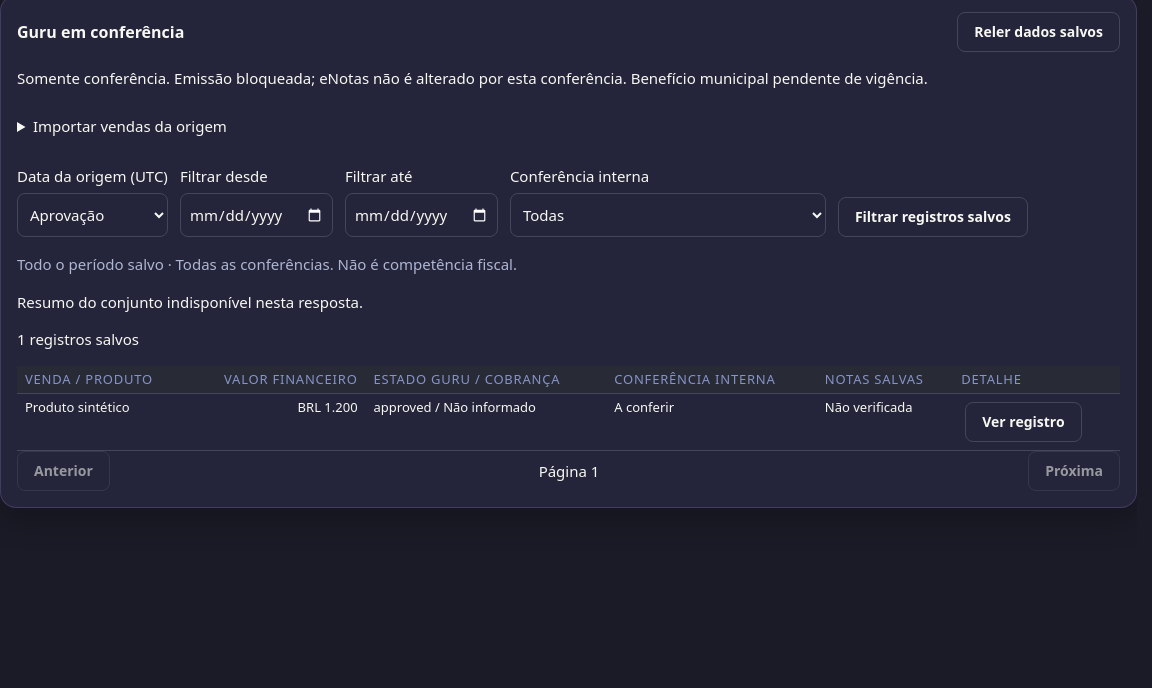
abrir somente lê; conferência explícita usa versão/hash e mantém bloqueios
Click the button with aria-label "Conferir transação venda-sintetica" at (1024,422), box x1=965 y1=402 x2=1082 y2=442
(page scrolled)
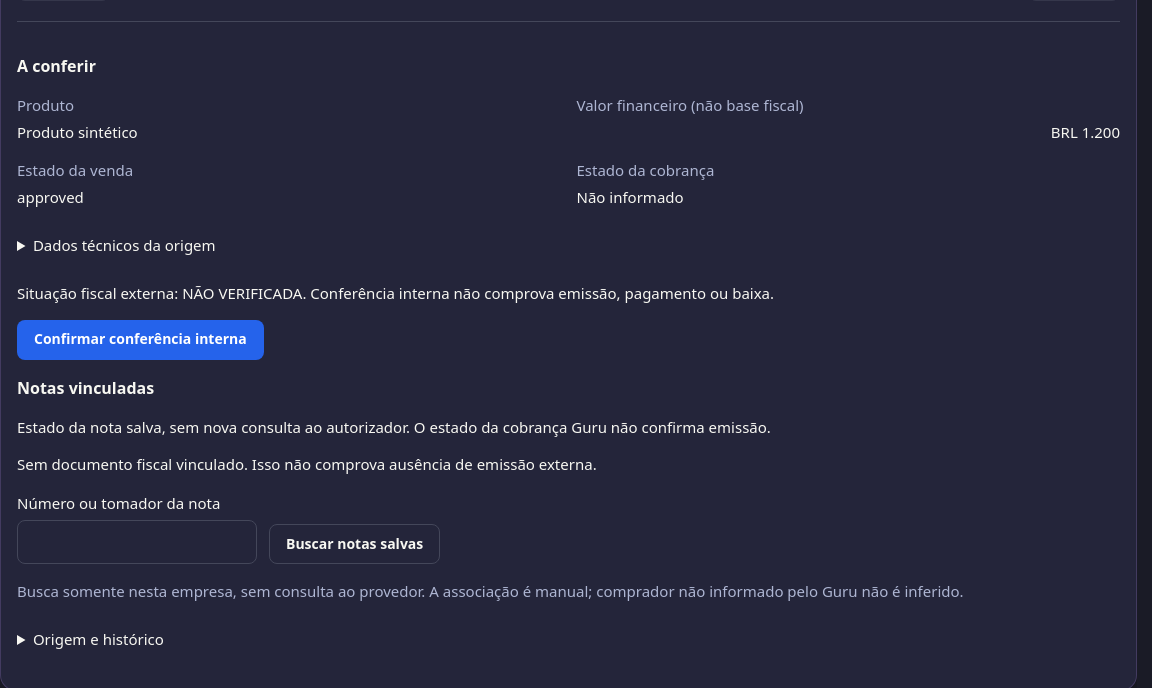
expect the text "Valor financeiro (não base fiscal)" is shown: met, box x1=576 y1=95 x2=804 y2=115
expect the text "NÃO VERIFICADA" is shown: met, box x1=17 y1=283 x2=774 y2=303
Click the button "Confirmar conferência interna" at (140,340), box x1=17 y1=320 x2=264 y2=360
(page scrolled)
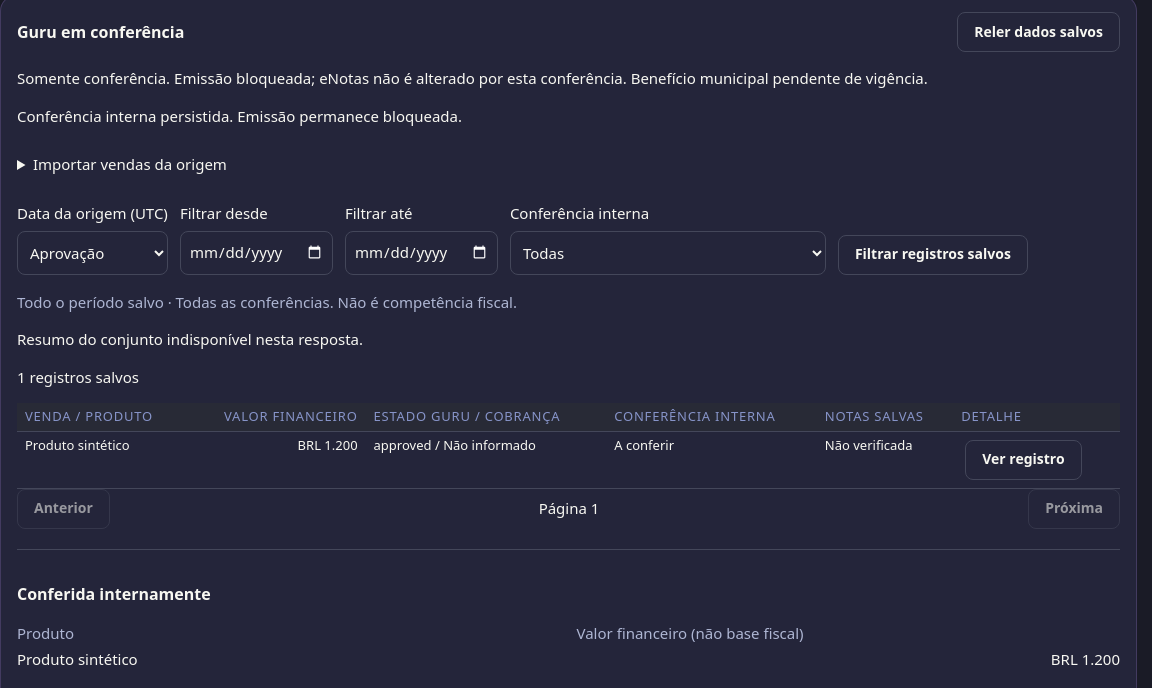
expect the text "Conferência interna persistida. Emissão permanece bloqueada." is shown: met, box x1=17 y1=106 x2=462 y2=126
